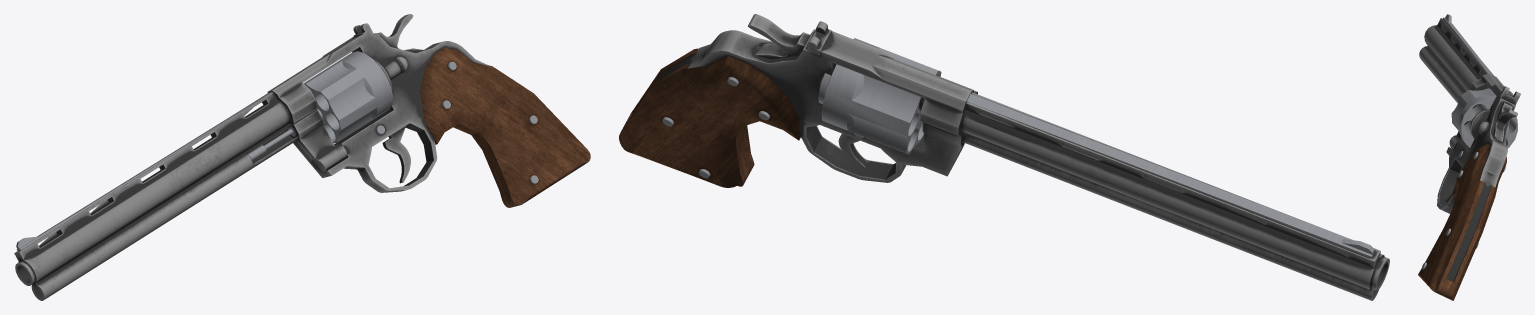
Rendered from 左轮手枪.glb.
3 renders of one model, left to right at view 1: azimuth 30°, elevation 25°; view 2: azimuth 150°, elevation 25°; view 3: azimuth 270°, elevation 25°, orthographic. The views are drawn at different scales.
Parts seen in each view (by area): view 1: Cylinder.004; view 2: Cylinder.004; view 3: Cylinder.004.
Boxes of the visible parts, <box> form: Cylinder.004: <box>14,14,590,300</box>; Cylinder.004: <box>619,14,1389,300</box>; Cylinder.004: <box>1418,14,1520,300</box>.
Size of the model in its own units: 769 by 232 by 140.
Materials: 1 (1 with a texture image).
